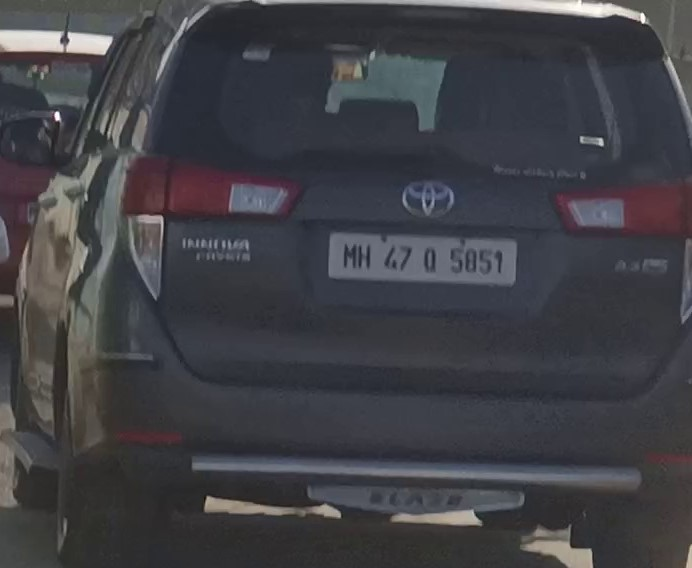MH4705851: (328, 230, 518, 286)
